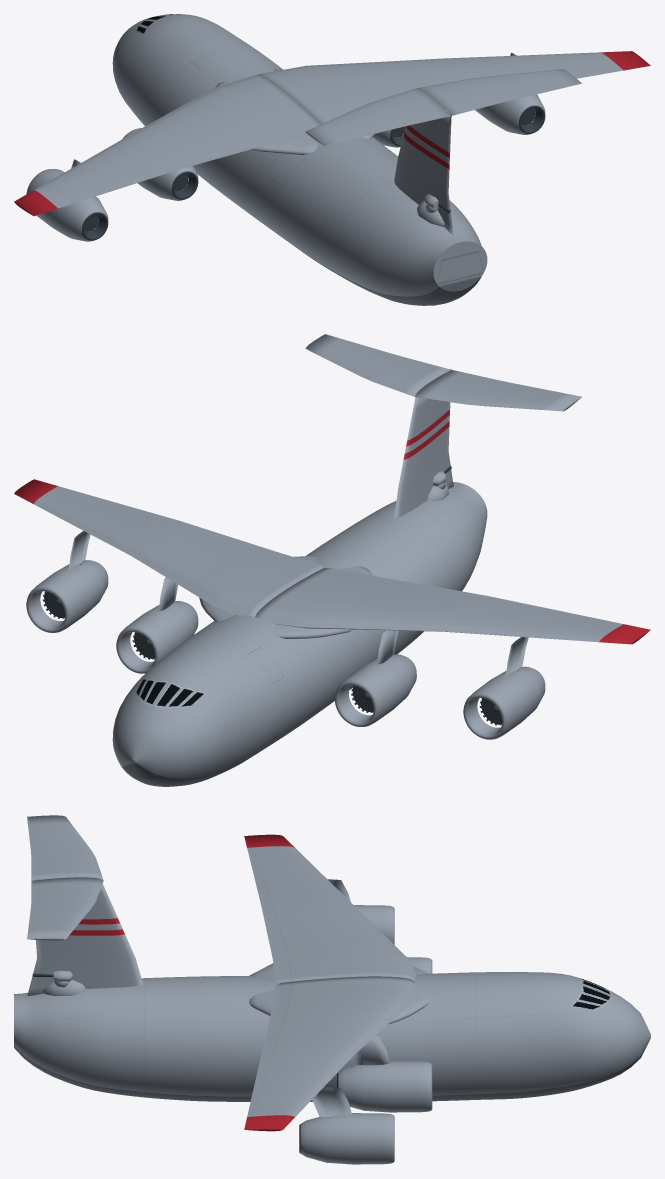
The model's file is giant-transport-near.glb.
3 views of the same model, one above another, from view 1: azimuth 30°, elevation 25°; view 2: azimuth 150°, elevation 25°; view 3: azimuth 270°, elevation 25° (orthographic). The views are drawn at different scales.
Parts seen in each view (by area): view 1: TransportHull; view 2: TransportHull; view 3: TransportHull.
Boxes of the visible parts, x1,y1,x2,y2 form: TransportHull: [14, 14, 650, 305]; TransportHull: [14, 334, 650, 786]; TransportHull: [14, 815, 650, 1164].
Bounding box in the file's own units: 48 × 16.62 × 44.
4 materials, 2 textured.
